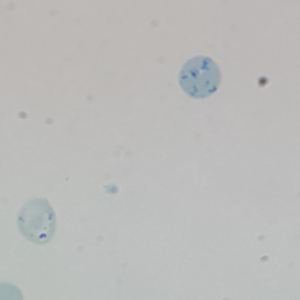aggregate reticulocyte: (177, 54, 223, 100)
erythrocyte: (15, 196, 58, 246)
